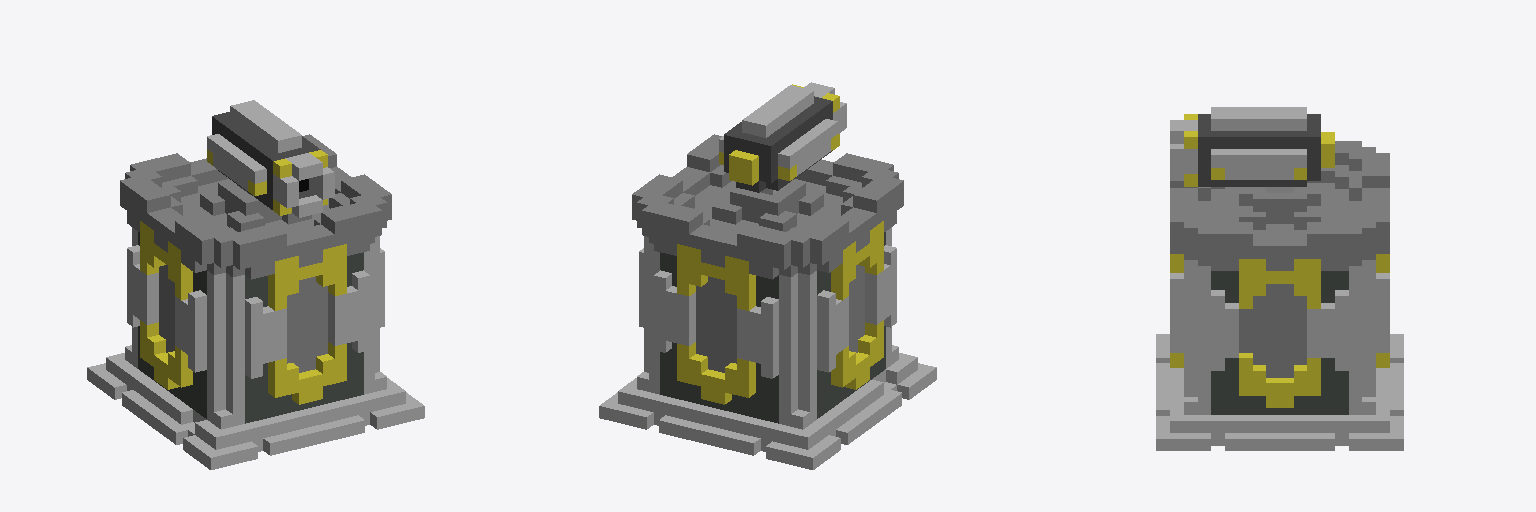
3 renders of one model, left to right at view 1: azimuth 30°, elevation 25°; view 2: azimuth 150°, elevation 25°; view 3: azimuth 270°, elevation 25°, orthographic.
Parts seen in each view (by area): view 1: object 1; view 2: object 1; view 3: object 1.
Boxes of the visible parts, x1,y1,x2,y2 form: object 1: [87, 100, 424, 469]; object 1: [599, 82, 936, 469]; object 1: [1156, 107, 1403, 450].
Bounding box in the file's own units: 1.8 × 2.3 × 1.8.
1 materials, 1 textured.